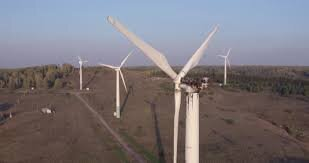faulty: (139, 23, 216, 133)
